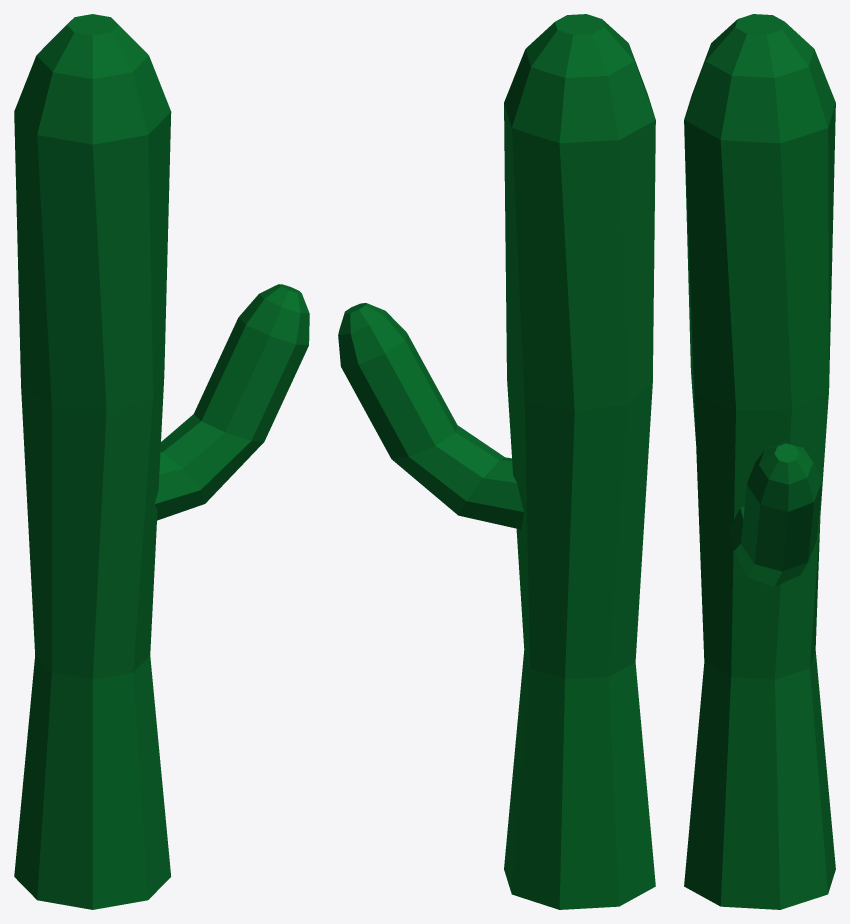
File: Cactus_2.fbx
3 views of the same model, side by side, from view 1: azimuth 30°, elevation 25°; view 2: azimuth 150°, elevation 25°; view 3: azimuth 270°, elevation 25° (orthographic).
Parts seen in each view (by area): view 1: Cactus_2; view 2: Cactus_2; view 3: Cactus_2.
Part boxes in pixels (bbox=[...]): Cactus_2: bbox=[14, 14, 309, 909]; Cactus_2: bbox=[338, 14, 655, 909]; Cactus_2: bbox=[684, 14, 835, 909].
Size of the model in its own units: 82.03 by 36.96 by 229.
